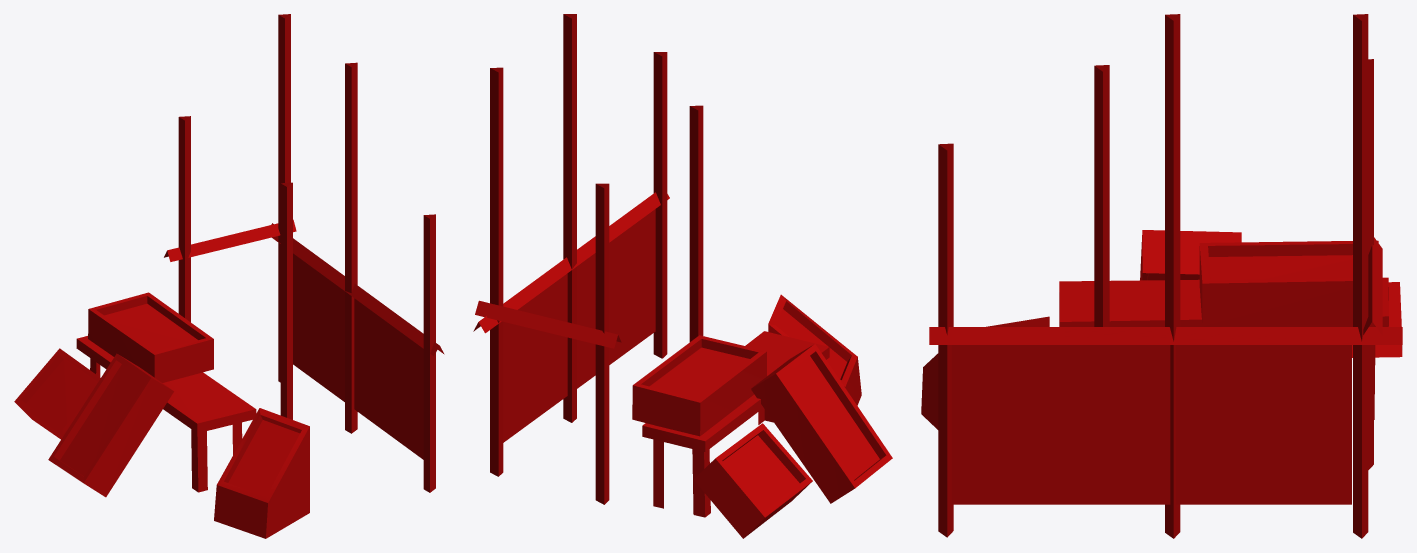
Rendered from n_venetian_market_stand_03_lod2.glb.
3 renders of one model, left to right at view 1: azimuth 30°, elevation 25°; view 2: azimuth 150°, elevation 25°; view 3: azimuth 270°, elevation 25°, orthographic. The views are drawn at different scales.
Visible parts, largest first — view 1: MODEL_n_venetian_market_stand_03_lod2; view 2: MODEL_n_venetian_market_stand_03_lod2; view 3: MODEL_n_venetian_market_stand_03_lod2.
Boxes of the visible parts, x1,y1,x2,y2 form: MODEL_n_venetian_market_stand_03_lod2: (14,14,444,538); MODEL_n_venetian_market_stand_03_lod2: (473,14,892,538); MODEL_n_venetian_market_stand_03_lod2: (921,14,1402,538).
Bounding box in the file's own units: 0.7591 × 0.9072 × 0.7645.
